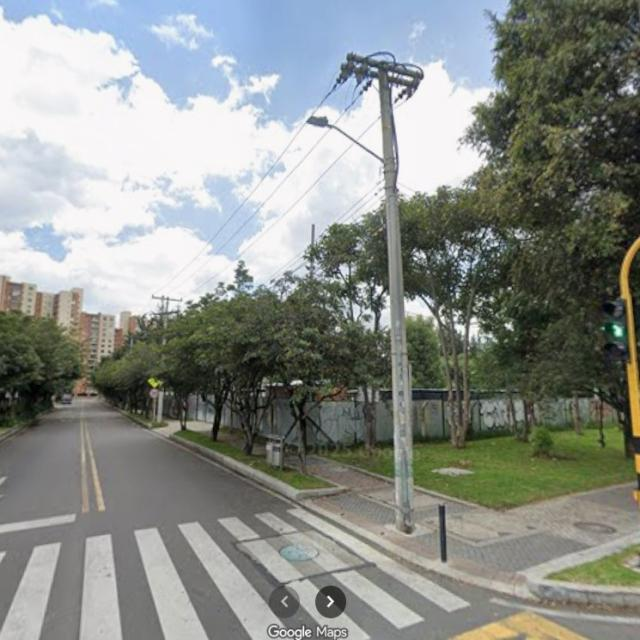Fachada: (0, 275, 137, 394)
Poste: (307, 52, 423, 532)
